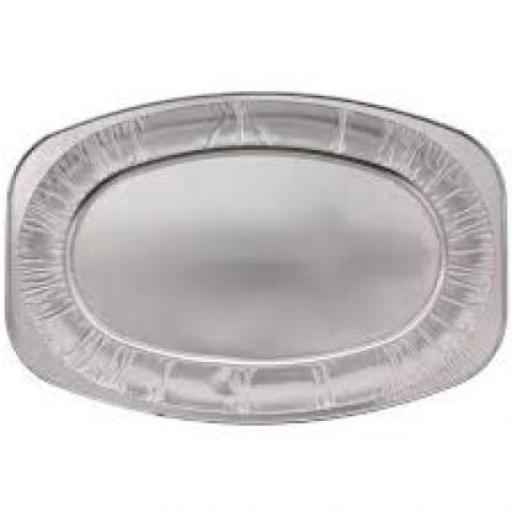metal: (6, 95, 511, 432)
